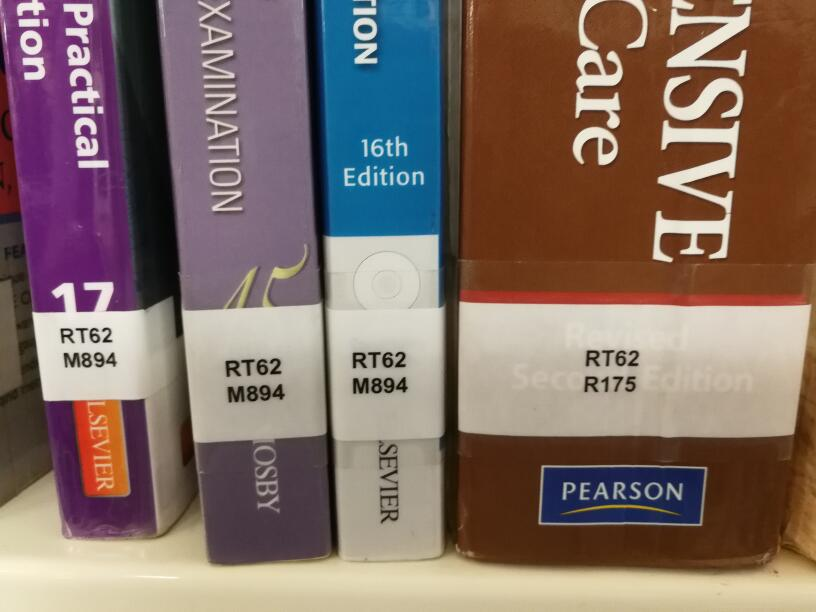booklabel: (222, 356, 288, 406), (349, 348, 410, 397), (581, 347, 642, 394), (58, 325, 121, 370)
